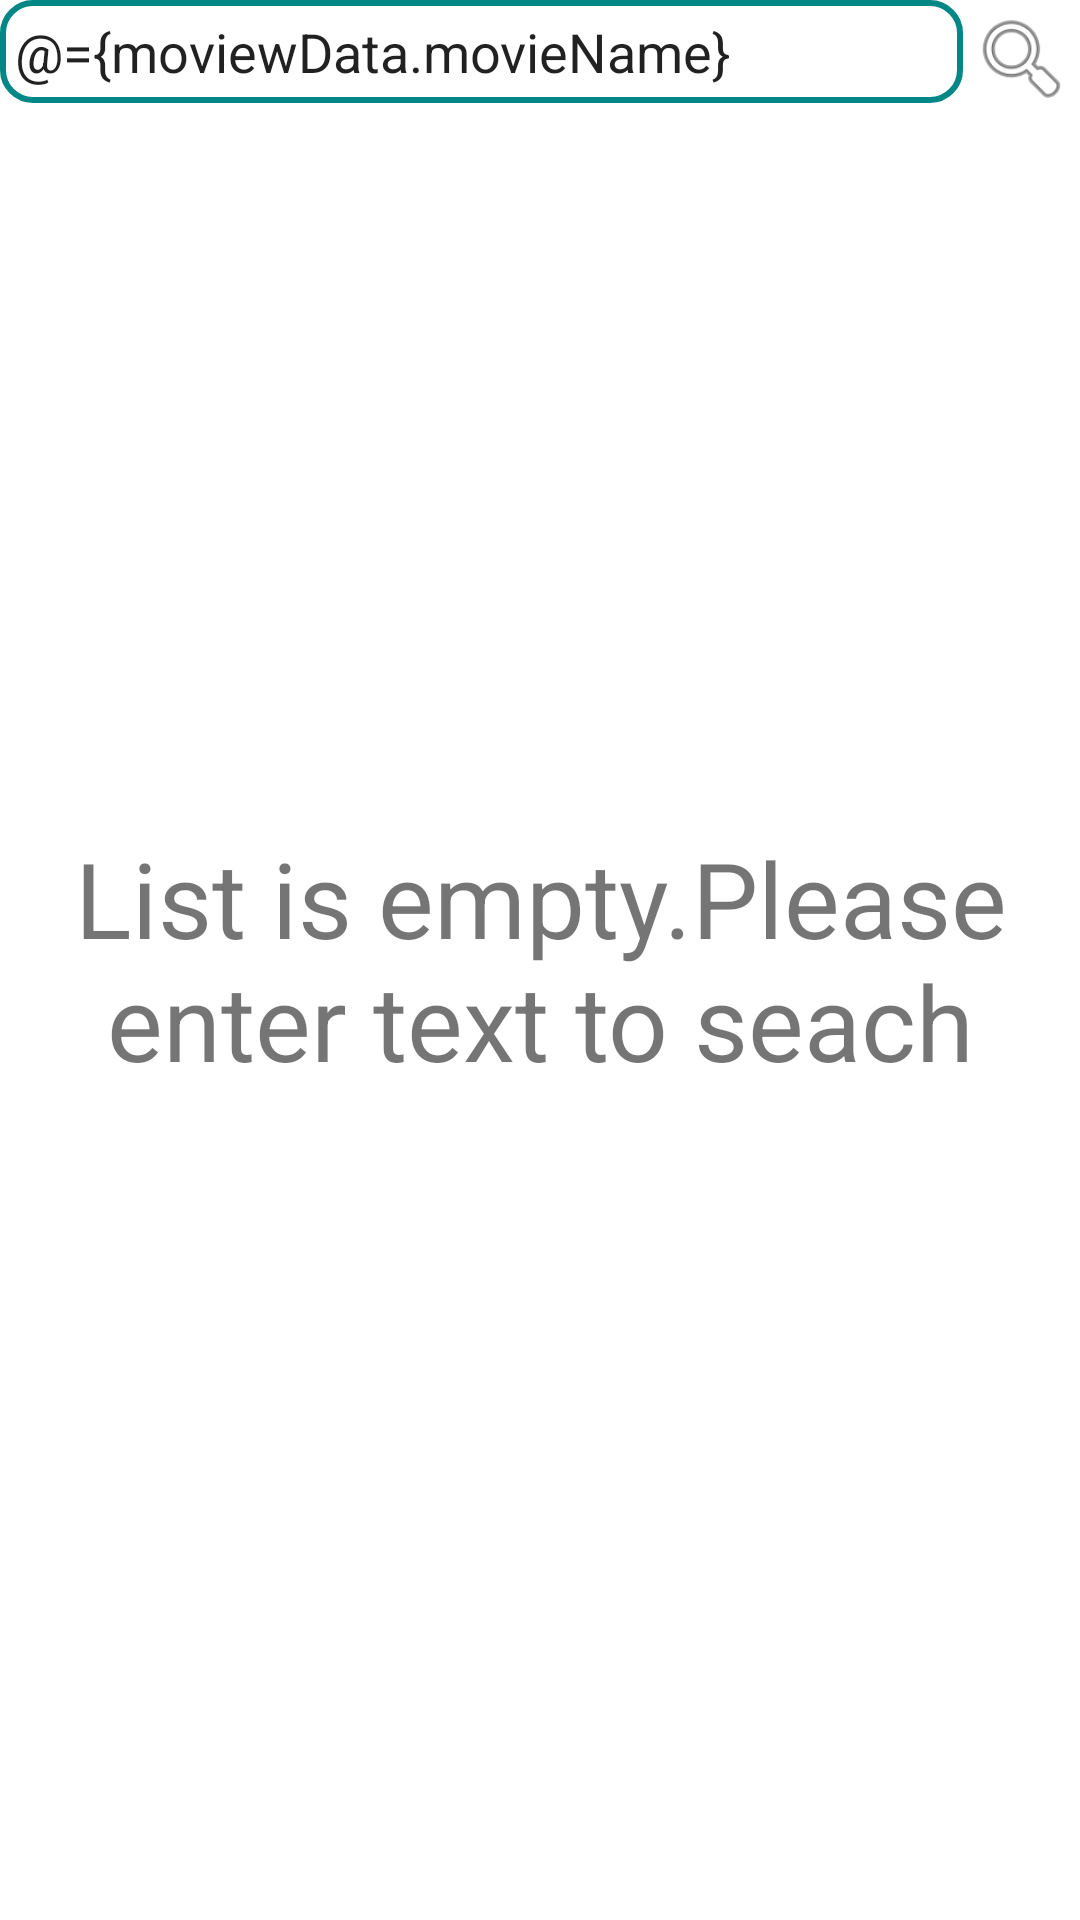

Screen size 1080px×1920px. Icon name, then its box in pixels as bbox=(x1, y1, x2, y2):
search: bbox=(983, 20, 1060, 98)
